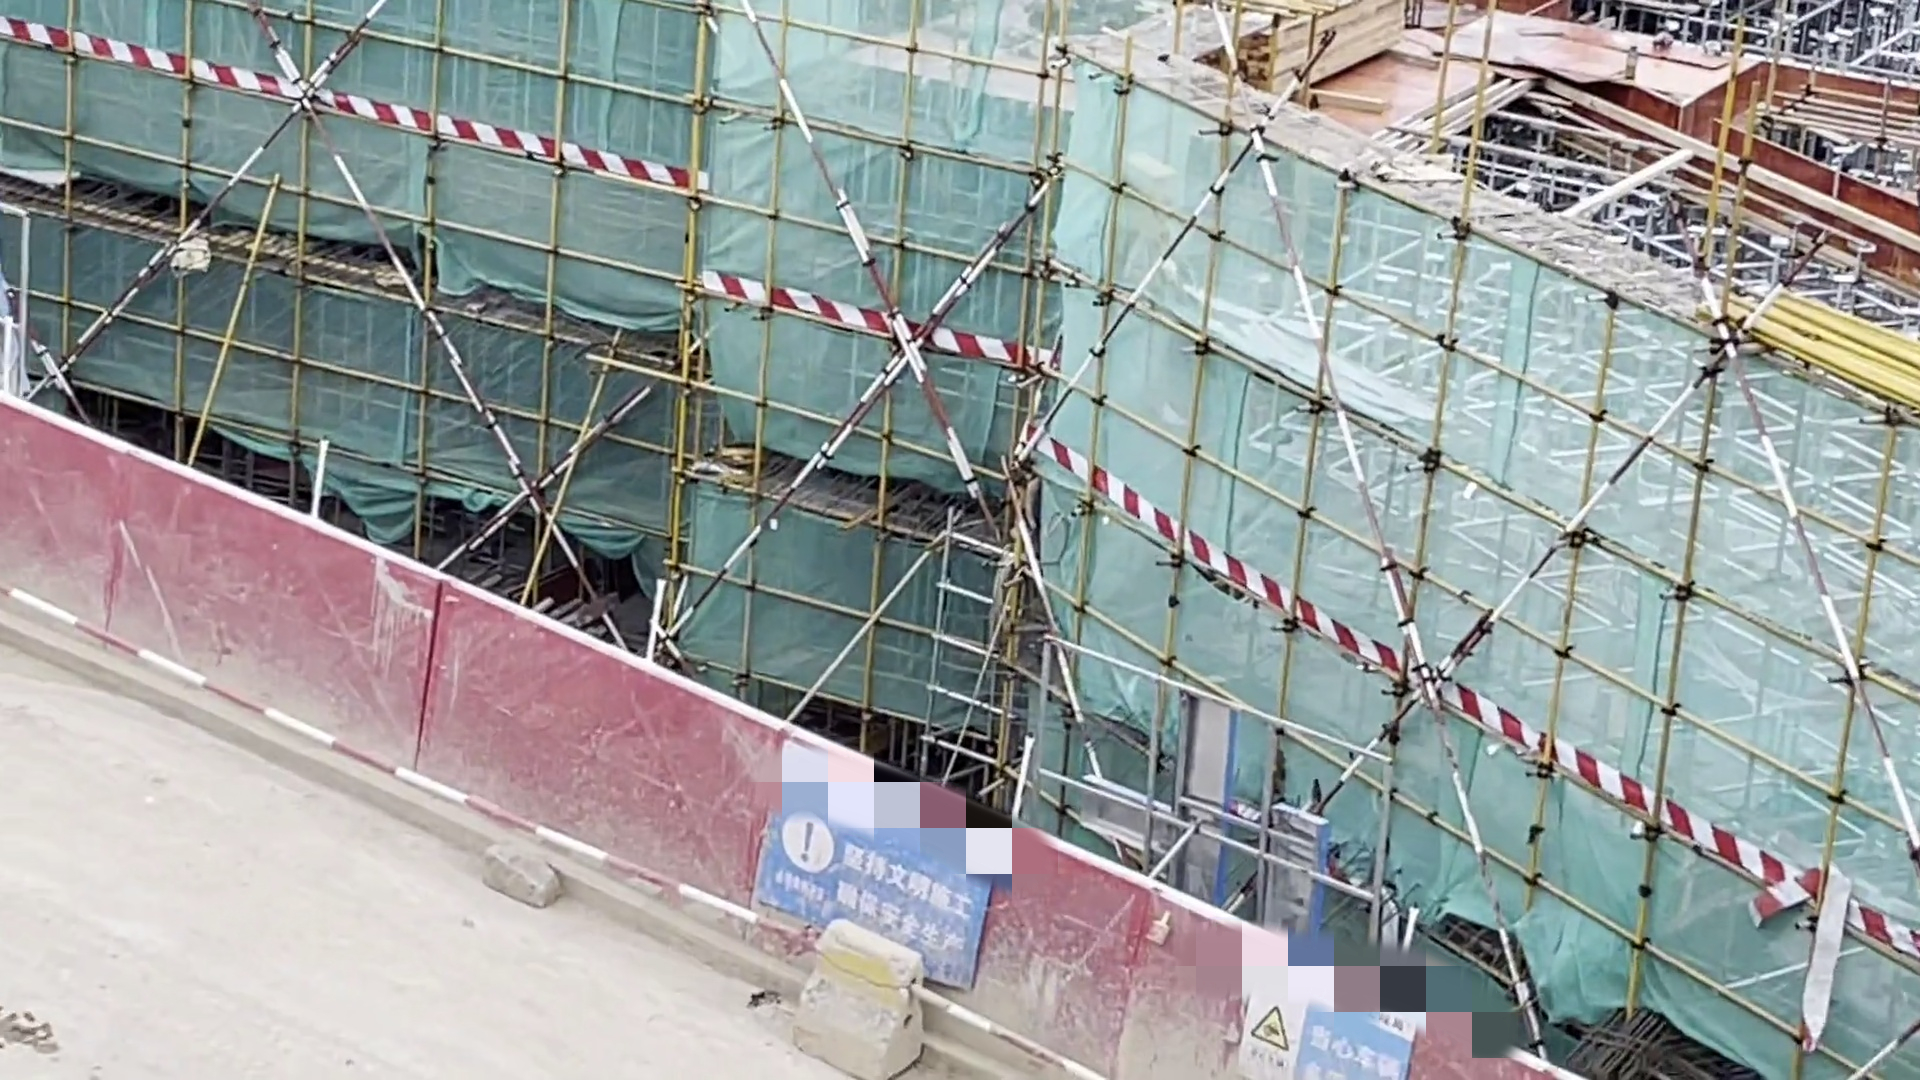fence: (1, 422, 1582, 1080)
slogan: (832, 837, 972, 959), (1298, 1019, 1402, 1080)
